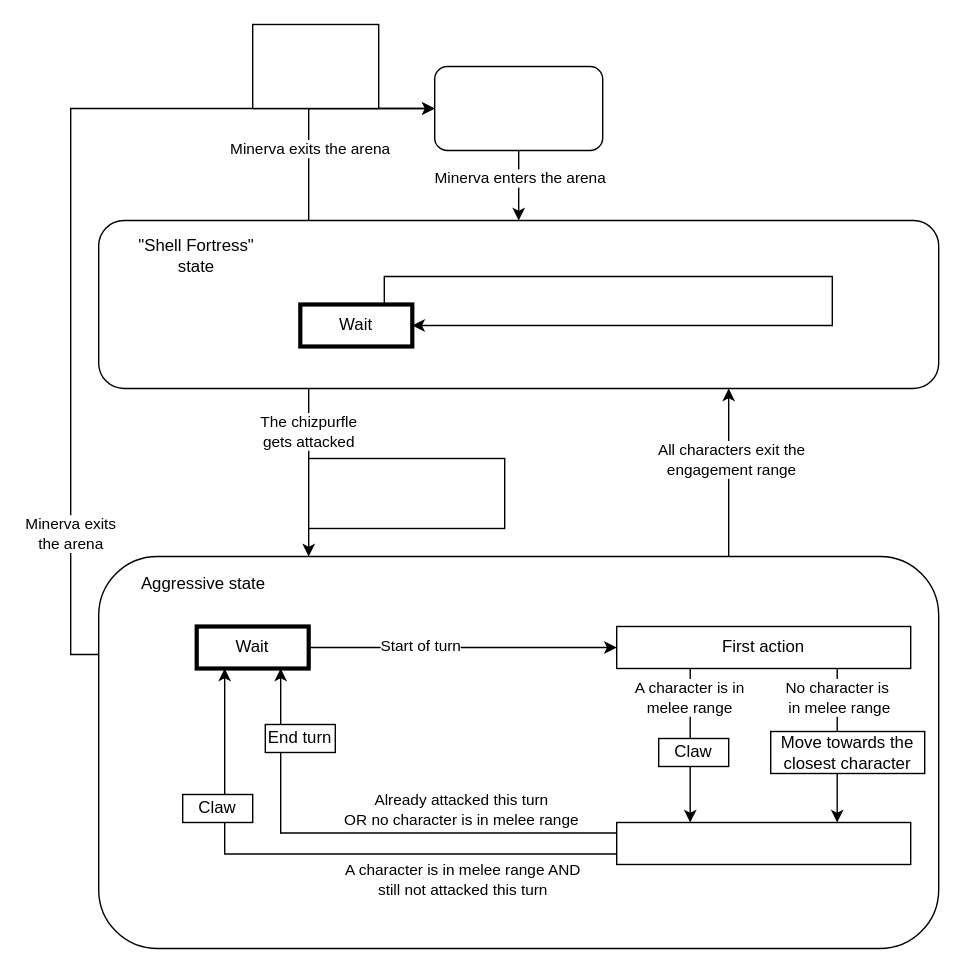
The diagram is 963 pixels wide and 973 high, and some of its shapes have lost their labels. The centre of each missing label's shape, as x and y in pixels:
Idle: point 518,107
Second action: point 763,842
The chizpurfle focuses the closest character in its engagement range: point 406,492
The chizpurfle returns to the starting position: point 315,65
